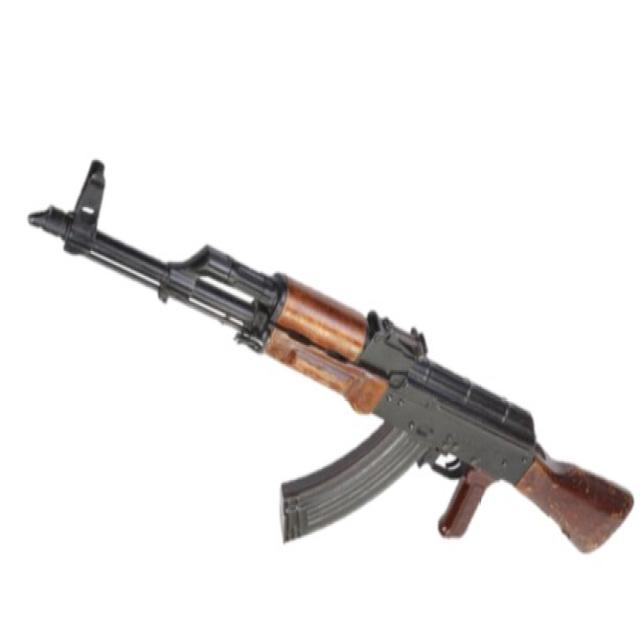rifle: (29, 155, 637, 566)
